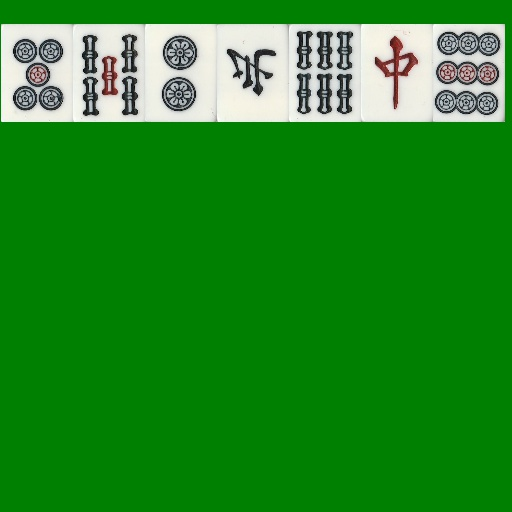2p: (145, 24, 217, 122)
5p: (1, 24, 73, 122)
5s: (73, 24, 145, 122)
6s: (289, 24, 361, 122)
9p: (433, 24, 505, 122)
north: (217, 24, 289, 122)
tyun: (361, 24, 433, 122)
